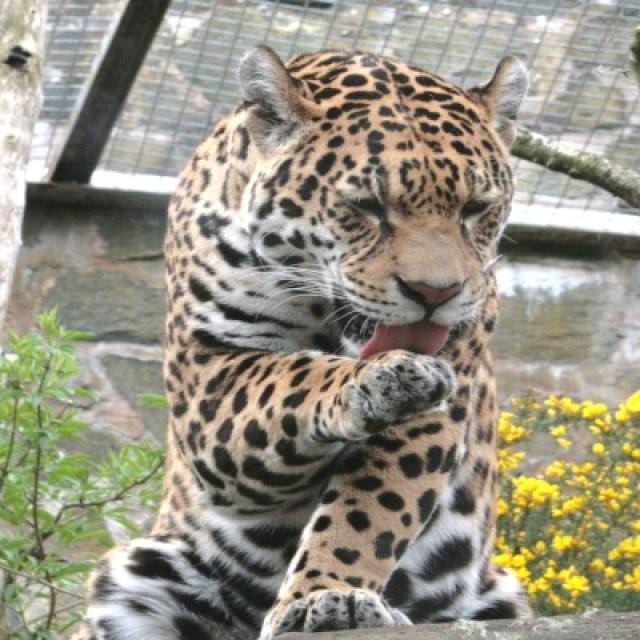Jaguar: (85, 46, 533, 638)
